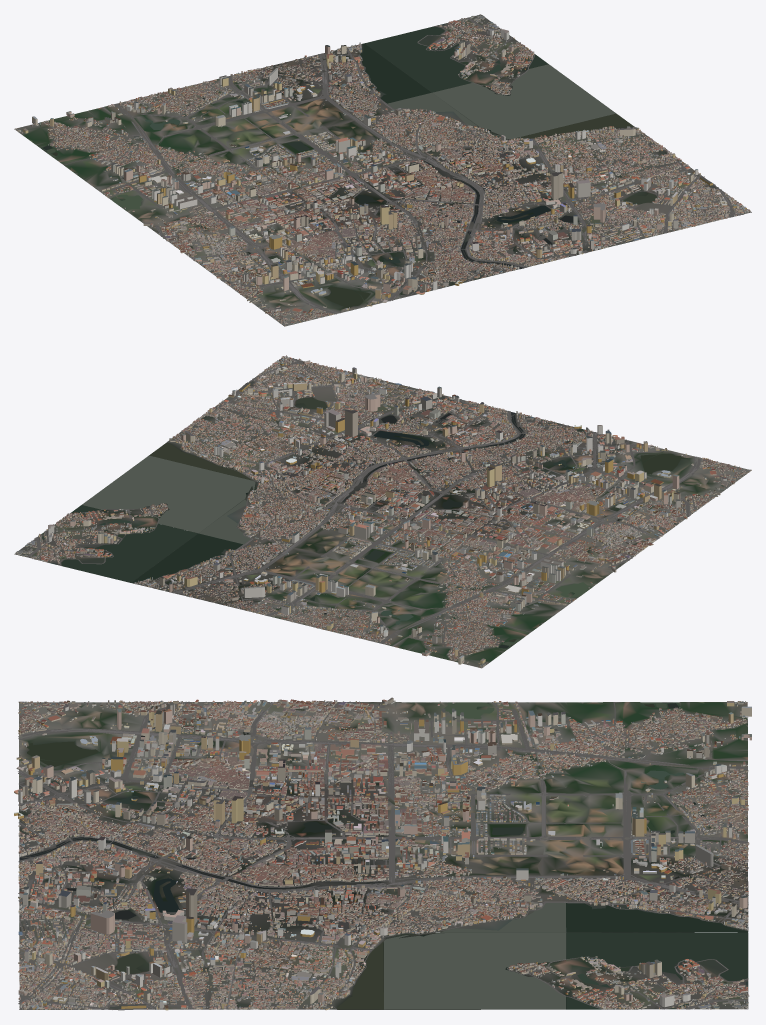
The picture shows the model from 3 angles, top to bottom: view 1: azimuth 30°, elevation 25°; view 2: azimuth 150°, elevation 25°; view 3: azimuth 270°, elevation 25°; orthographic projection. The views are drawn at different scales.
Visible parts, largest first — view 1: buildings, ground, water, roads; view 2: buildings, ground, water, roads; view 3: buildings, ground, water, roads.
Part boxes in pixels (x1,y1,x2,y2): buildings: [14, 14, 750, 326]; ground: [14, 15, 750, 326]; water: [41, 23, 716, 308]; roads: [45, 17, 751, 314]; buildings: [15, 355, 751, 667]; ground: [14, 357, 751, 668]; water: [41, 381, 685, 650]; roads: [26, 357, 731, 660]; buildings: [14, 697, 751, 1010]; ground: [19, 702, 748, 1009]; water: [19, 702, 748, 1009]; roads: [18, 701, 748, 1010].
Bounding box in the file's own units: 5644 × 280 × 5678.
